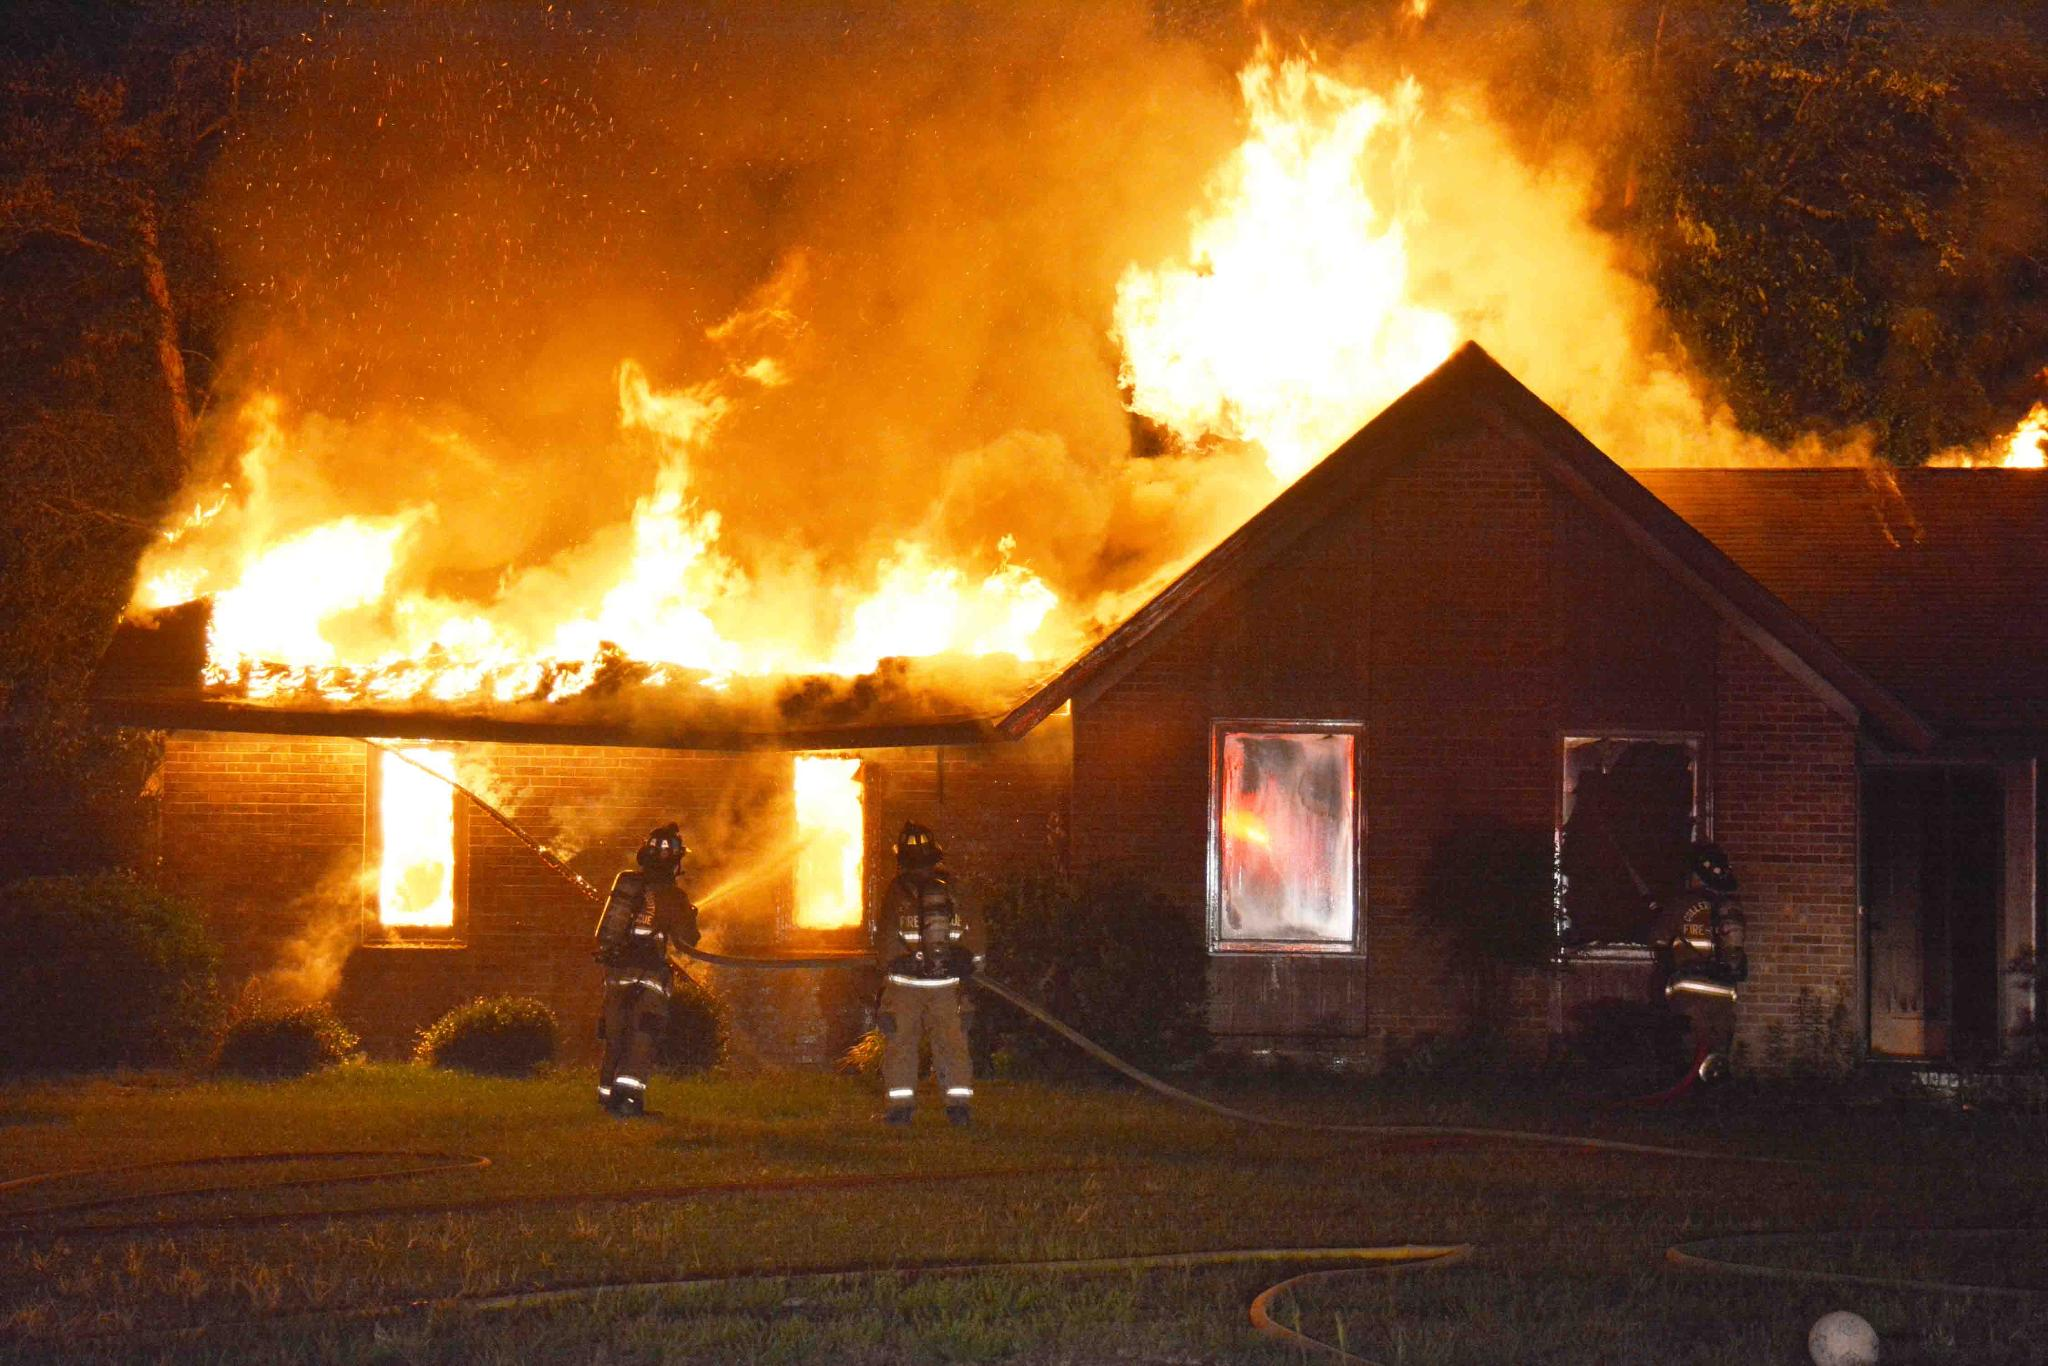fire: (107, 290, 1086, 668), (1082, 38, 1659, 547), (286, 732, 890, 965)
